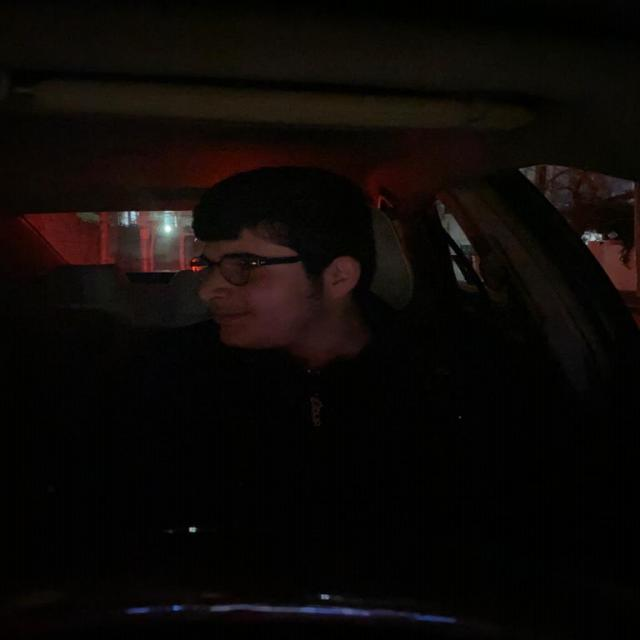LeftRight: (182, 159, 400, 361)
